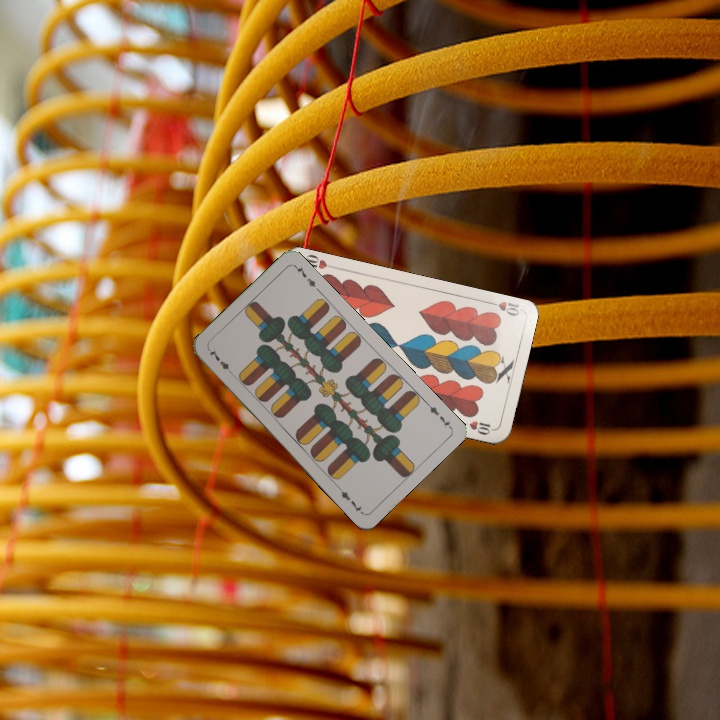E7: (422, 398, 453, 431), (205, 345, 236, 377)
H10: (483, 297, 523, 319)
